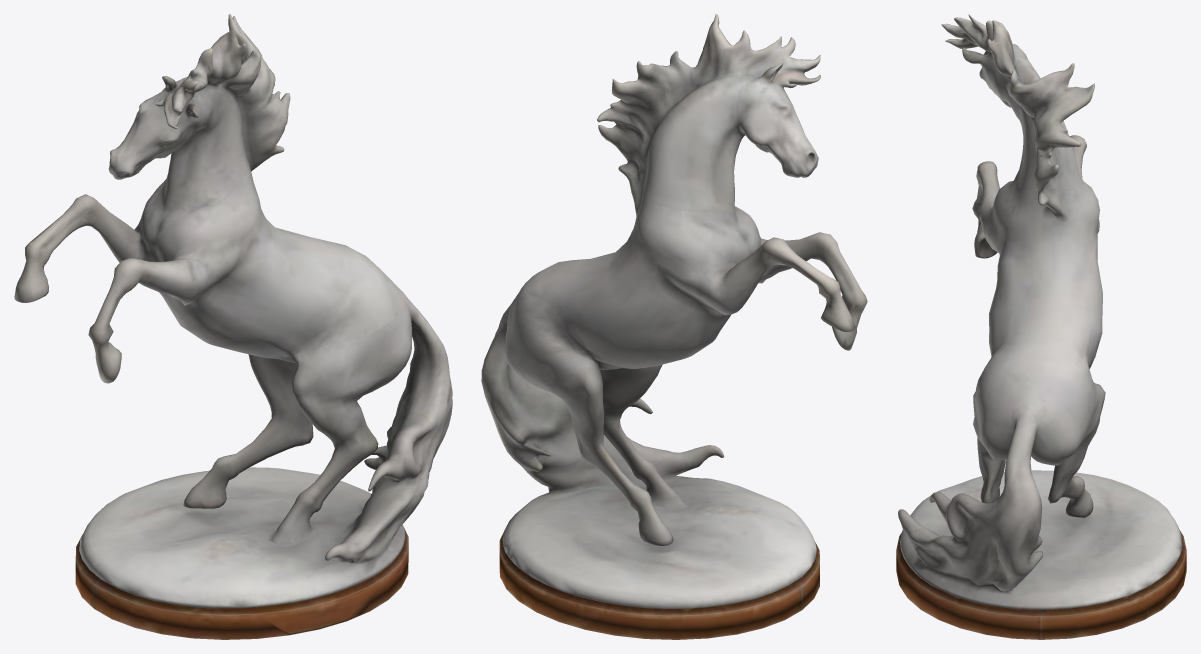
Rendered from horse_statue_01.glb.
The picture shows the model from 3 angles, left to right: view 1: azimuth 30°, elevation 25°; view 2: azimuth 150°, elevation 25°; view 3: azimuth 270°, elevation 25°; orthographic projection. The views are drawn at different scales.
Parts seen in each view (by area): view 1: horse_statue_01; view 2: horse_statue_01; view 3: horse_statue_01.
Boxes of the visible parts, x1,y1,x2,y2 form: horse_statue_01: (14,14,452,639); horse_statue_01: (481,14,867,639); horse_statue_01: (896,14,1186,639).
Size of the model in its own units: 0.1638 by 0.22 by 0.1078.
1 material, 1 textured.
